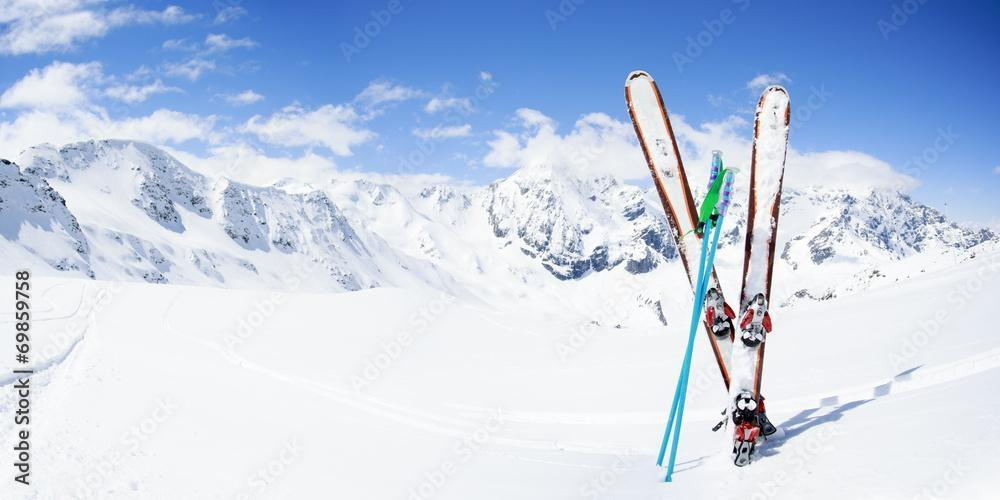Skis: (603, 63, 814, 498)
